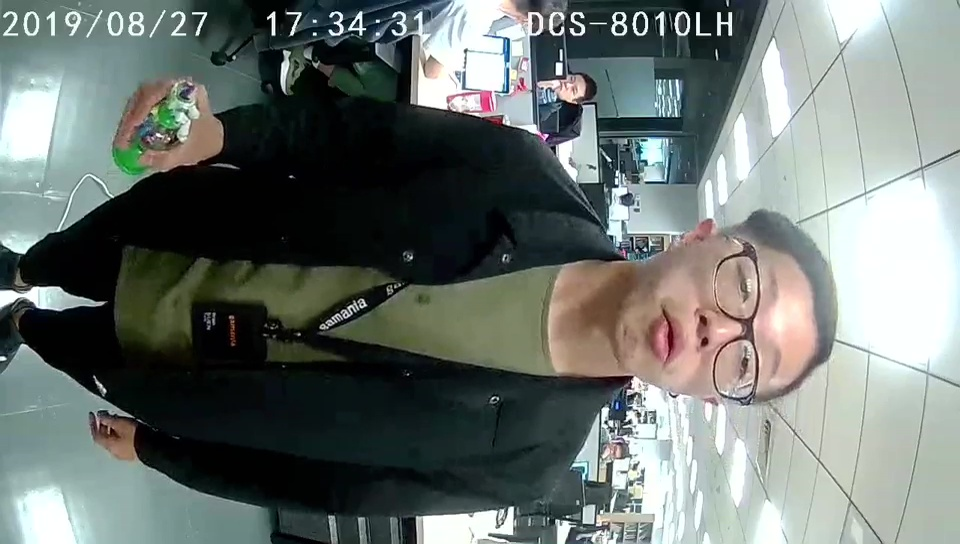buzz: (114, 78, 200, 175)
